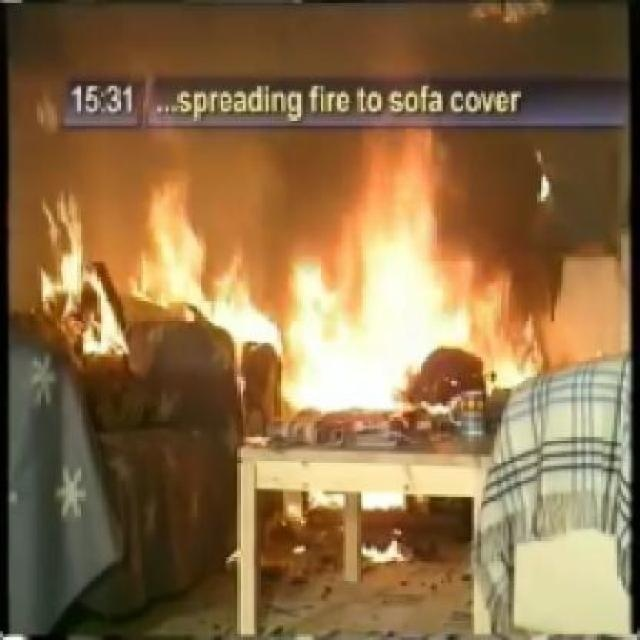fire: (142, 161, 508, 423)
